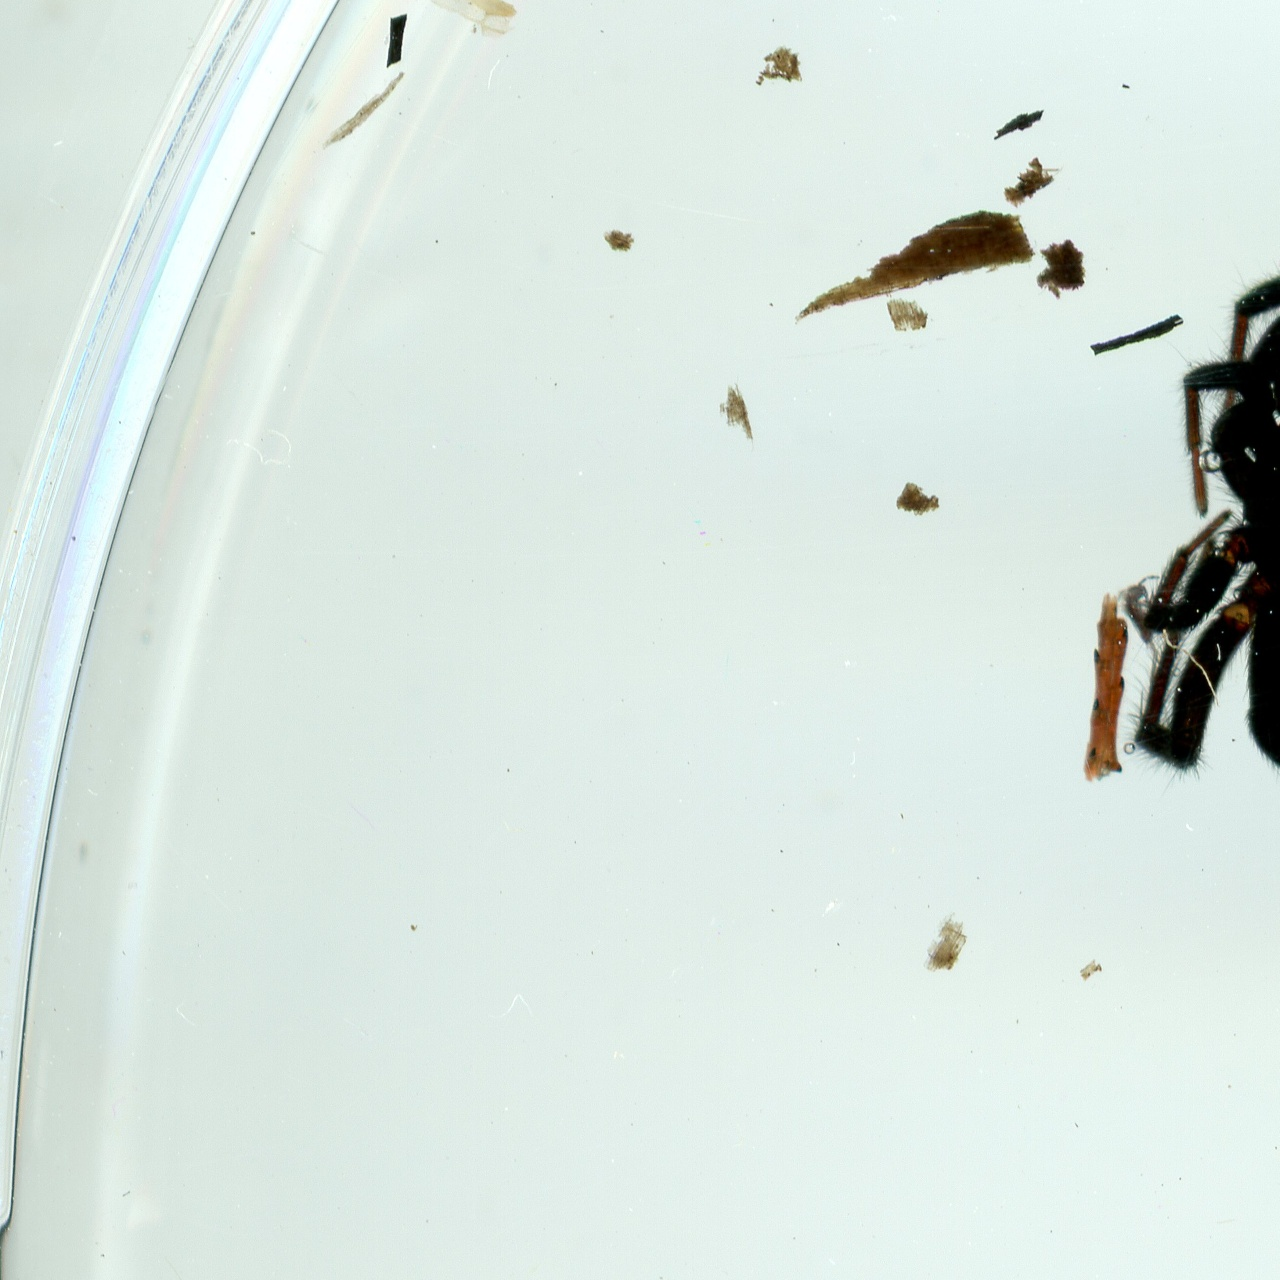arthropod: (1112, 225, 1280, 819), (1109, 560, 1163, 679)
